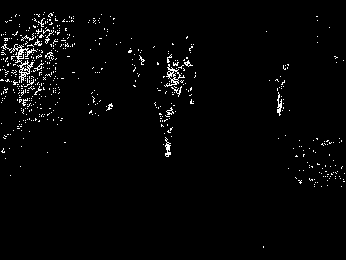person: (153, 102, 177, 157), (272, 63, 289, 117), (128, 46, 144, 87)
